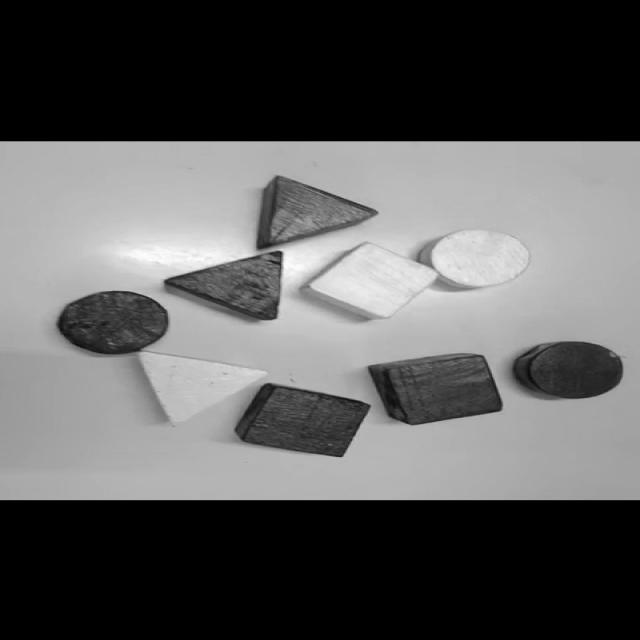bcircle: (58, 291, 170, 355)
bcube: (236, 383, 370, 456)
btriangle: (165, 251, 284, 320)
rcircle: (514, 341, 622, 398)
rcube: (368, 354, 501, 426)
rtriangle: (261, 177, 377, 248)
ycircle: (420, 229, 530, 289)
ycube: (302, 243, 438, 320)
ytriangle: (135, 351, 268, 426)
